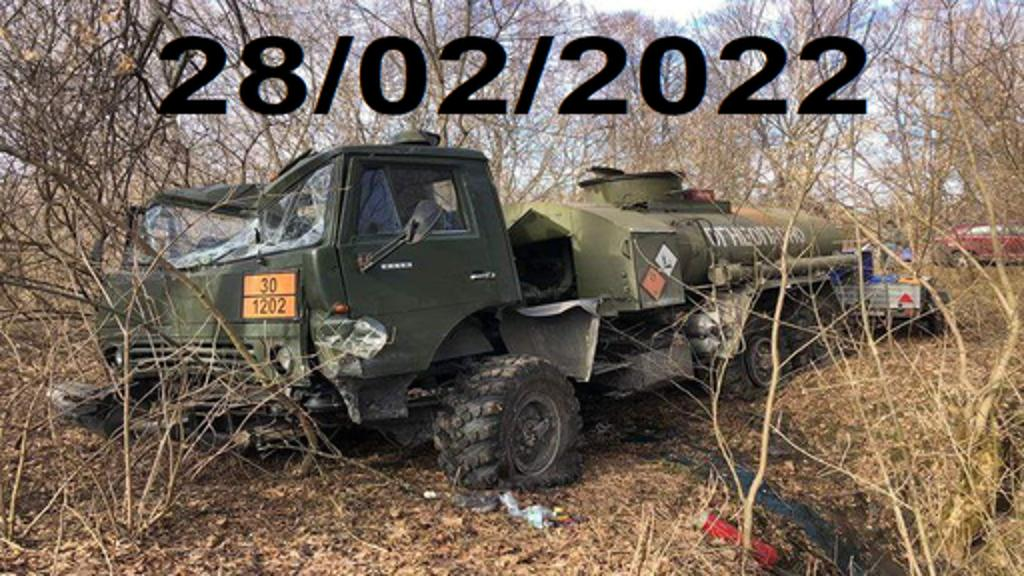CAR: (930, 216, 1022, 270)
TRUCK: (76, 116, 846, 504)
